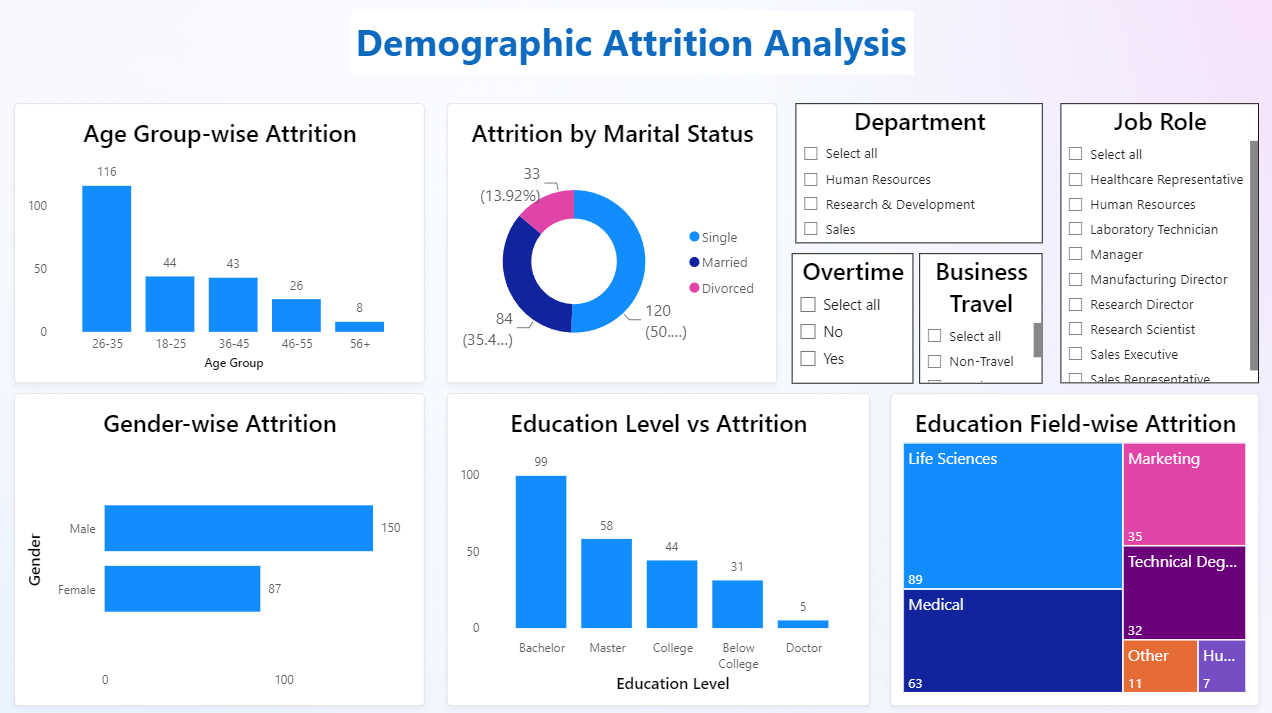

Layout of this report page (visuals, bound fields, positions):
{"tool":"powerbi","page":{"name":"              Demographic Attrition Analysis","canvas":[1280,720],"ordinal":2},"visuals":[{"type":"clusteredColumnChart","title":"Age Group-wise Attrition","fields":{"Y":["Measures (2).Employees Left"],"Category":["Palo Alto Networks.Age Group"]},"box":[15.7,105.7,410,280],"z":0},{"type":"clusteredBarChart","title":"Gender-wise Attrition","fields":{"Category":["Palo Alto Networks.Gender"],"Y":["Measures (2).Employees Left"]},"box":[15.7,395.7,410,312.9],"z":1000},{"type":"donutChart","title":"Attrition by Marital Status","fields":{"Category":["Palo Alto Networks.MaritalStatus"],"Y":["Measures (2).Employees Left"]},"box":[448.6,105.7,330,280],"z":2000},{"type":"columnChart","title":"Education Level vs Attrition","fields":{"Y":["Measures (2).Employees Left"],"Category":["Palo Alto Networks.Education Level"]},"box":[448.6,395.7,422.9,312.9],"z":3000},{"type":"treemap","title":"Education Field-wise Attrition","fields":{"Values":["Measures (2).Employees Left"],"Group":["Palo Alto Networks.EducationField"]},"box":[892.9,395.7,368.6,312.9],"z":4000},{"type":"slicer","title":"Department","fields":{"Values":["Palo Alto Networks.Department"]},"box":[797.1,105.7,247.1,140],"z":5000},{"type":"slicer","title":"Job Role","fields":{"Values":["Palo Alto Networks.JobRole"]},"box":[1062.9,105.7,198.6,280],"z":6000},{"type":"slicer","title":"Business Travel","fields":{"Values":["Palo Alto Networks.BusinessTravel"]},"box":[921.4,255.7,122.9,130],"z":7000},{"type":"slicer","title":"Overtime","fields":{"Values":["Palo Alto Networks.OverTime"]},"box":[794.3,255.7,121.4,130],"z":8000},{"type":"textbox","box":[352.9,14.3,562.9,64.3],"z":9000}]}

Visuals, with their boxes in screenshot pixels (x1, y1, x2, y2), scaled from the page's 1280x720 canvas onto the 1272x713 screenshot:
"Age Group-wise Attrition" clusteredColumnChart: box(16, 105, 423, 382)
"Gender-wise Attrition" clusteredBarChart: box(16, 392, 423, 702)
"Attrition by Marital Status" donutChart: box(446, 105, 774, 382)
"Education Level vs Attrition" columnChart: box(446, 392, 866, 702)
"Education Field-wise Attrition" treemap: box(887, 392, 1254, 702)
"Department" slicer: box(792, 105, 1038, 243)
"Job Role" slicer: box(1056, 105, 1254, 382)
"Business Travel" slicer: box(916, 253, 1038, 382)
"Overtime" slicer: box(789, 253, 910, 382)
textbox: box(351, 14, 910, 78)
